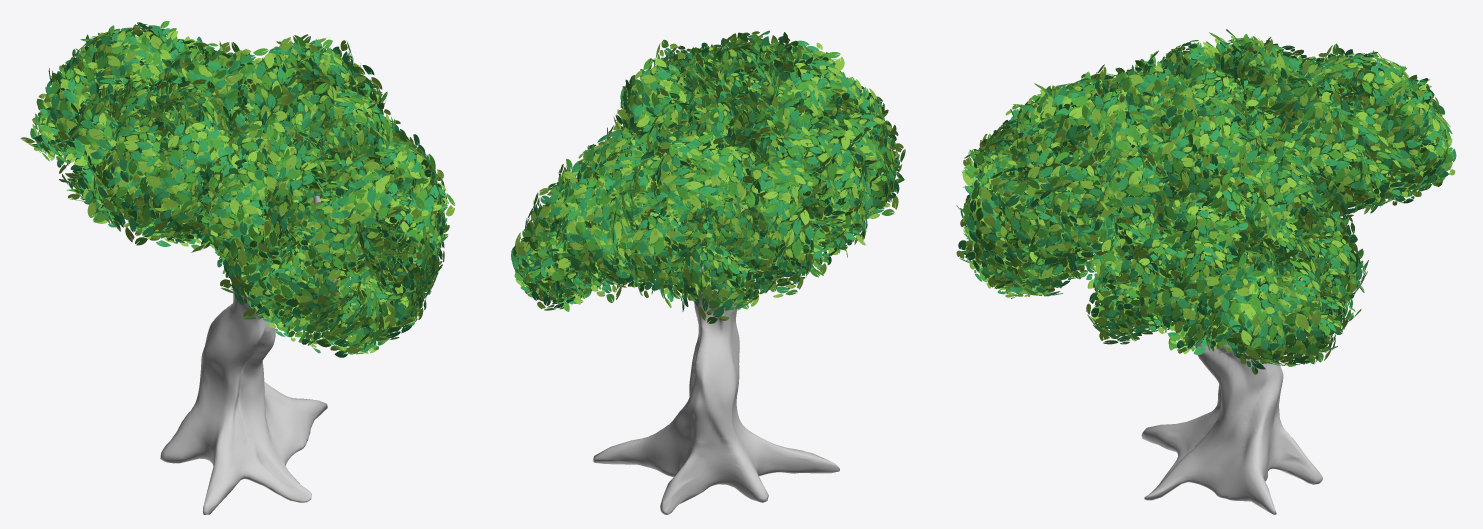
Rendered from sTree_Leaves(Txtr).fbx.
3 renders of one model, left to right at view 1: azimuth 30°, elevation 25°; view 2: azimuth 150°, elevation 25°; view 3: azimuth 270°, elevation 25°, orthographic. The views are drawn at different scales.
Parts seen in each view (by area): view 1: leaves_Plane, tree_HP; view 2: leaves_Plane, tree_HP; view 3: leaves_Plane, tree_HP.
Boxes of the visible parts, left/top/right/bottom form: leaves_Plane: left=20, top=21, right=455, bottom=357; tree_HP: left=160, top=196, right=340, bottom=514; leaves_Plane: left=511, top=30, right=905, bottom=323; tree_HP: left=592, top=249, right=839, bottom=514; leaves_Plane: left=956, top=29, right=1456, bottom=374; tree_HP: left=1091, top=157, right=1322, bottom=514.
Size of the model in its own units: 29915 by 35506 by 37264.
